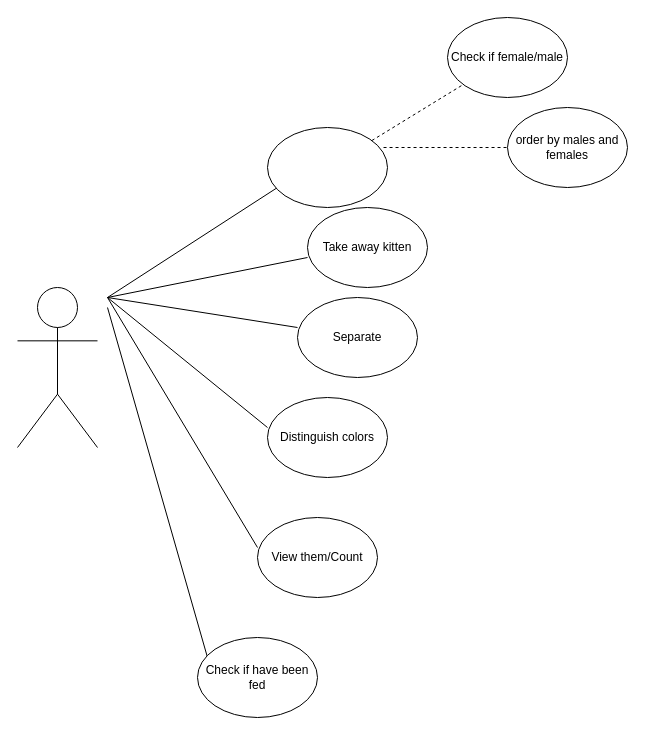
Image size: 645x735. Some labels were removed from this diagram. The shapes that lost their labels are listed below. From the top down, each one's centre as x and y in pixels, then its label:
[327,167]: Name Kitten
[57,367]: Actor
